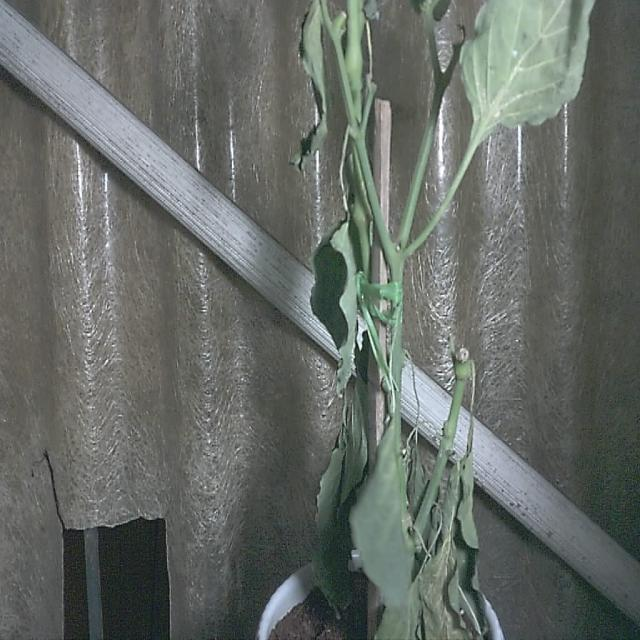Leaf: (461, 0, 594, 140), (314, 380, 366, 609), (350, 430, 415, 608), (311, 220, 356, 393), (292, 0, 327, 170), (375, 581, 421, 639), (412, 0, 450, 20)
